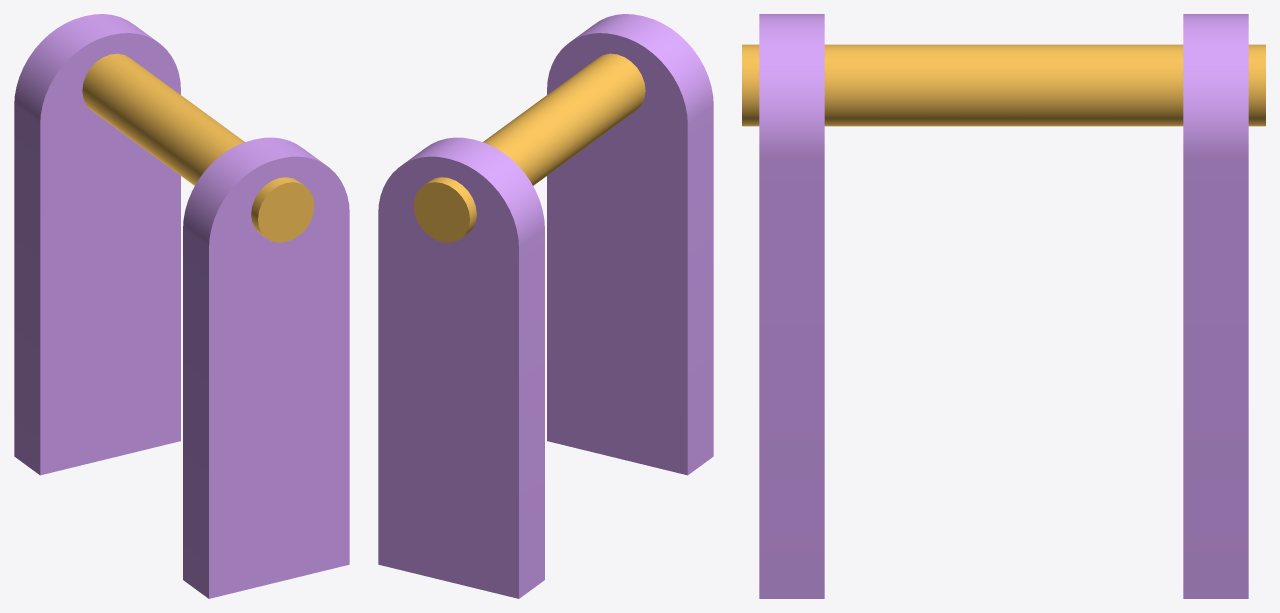
The model's file is Saw Stand A.fbx.
3 renders of one model, left to right at view 1: azimuth 30°, elevation 25°; view 2: azimuth 150°, elevation 25°; view 3: azimuth 270°, elevation 25°, orthographic. The views are drawn at different scales.
Parts seen in each view (by area): view 1: Saw Stand A (×2), Saw Stand A.001; view 2: Saw Stand A (×2), Saw Stand A.001; view 3: Saw Stand A (×2), Saw Stand A.001.
Part boxes in pixels (bbox=[...]): Saw Stand A (×2): bbox=[82, 53, 349, 598]; Saw Stand A.001: bbox=[14, 14, 180, 475]; Saw Stand A (×2): bbox=[413, 14, 713, 475]; Saw Stand A.001: bbox=[378, 137, 544, 598]; Saw Stand A (×2): bbox=[742, 14, 1265, 598]; Saw Stand A.001: bbox=[1183, 14, 1248, 598].
Size of the model in its own units: 47.85 by 137 by 123.
